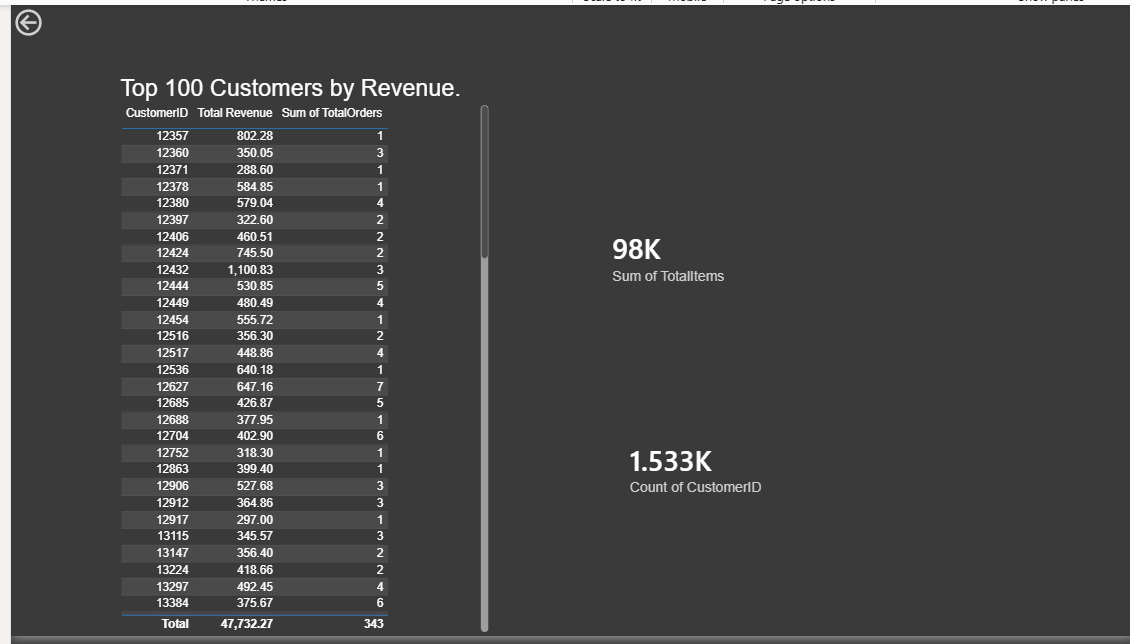

This screenshot's page, from the dashboard's own definition file:
{"tool":"powerbi","page":{"name":"Customer Profile","canvas":[1280,720],"ordinal":9},"visuals":[{"type":"tableEx","title":"Top 100 Customers by Revenue.","fields":{"Values":["customer_features.CustomerID","customer_features.Total Revenue","Sum(customer_features.TotalOrders)"]},"box":[120,80,430,640],"z":0},{"type":"cardVisual","fields":{"Data":["CountNonNull(customer_features.CustomerID)"]},"box":[675,360,360,333.3],"z":1000},{"type":"cardVisual","fields":{"Data":["Sum(customer_features.TotalItems)"]},"box":[655,141.7,366.7,290],"z":2000},{"type":"actionButton","box":[0,0,100,40],"z":3000}]}

Visuals, with their boxes on the page's 1280x720 design canvas (x1, y1, x2, y2). These are canvas units, not pixel positions in the 1130x644 screenshot, which may show the page scaled, cropped or inside an application window:
"Top 100 Customers by Revenue." tableEx: 120 80 550 720
cardVisual - CountNonNull(customer_features.CustomerID): 675 360 1035 693
cardVisual - Sum(customer_features.TotalItems): 655 142 1022 432
actionButton: 0 0 100 40
